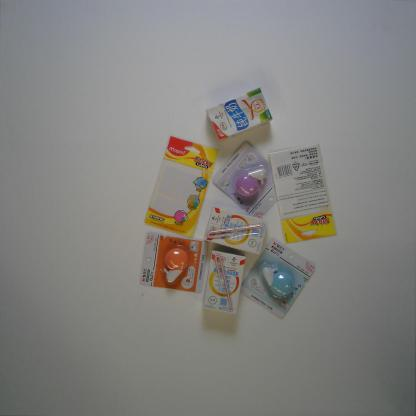Milk: (204, 85, 273, 142), (202, 206, 270, 256), (201, 248, 246, 315)
Stationery: (144, 135, 219, 239), (268, 140, 338, 246), (240, 236, 316, 320), (211, 140, 278, 221), (138, 230, 209, 295)
